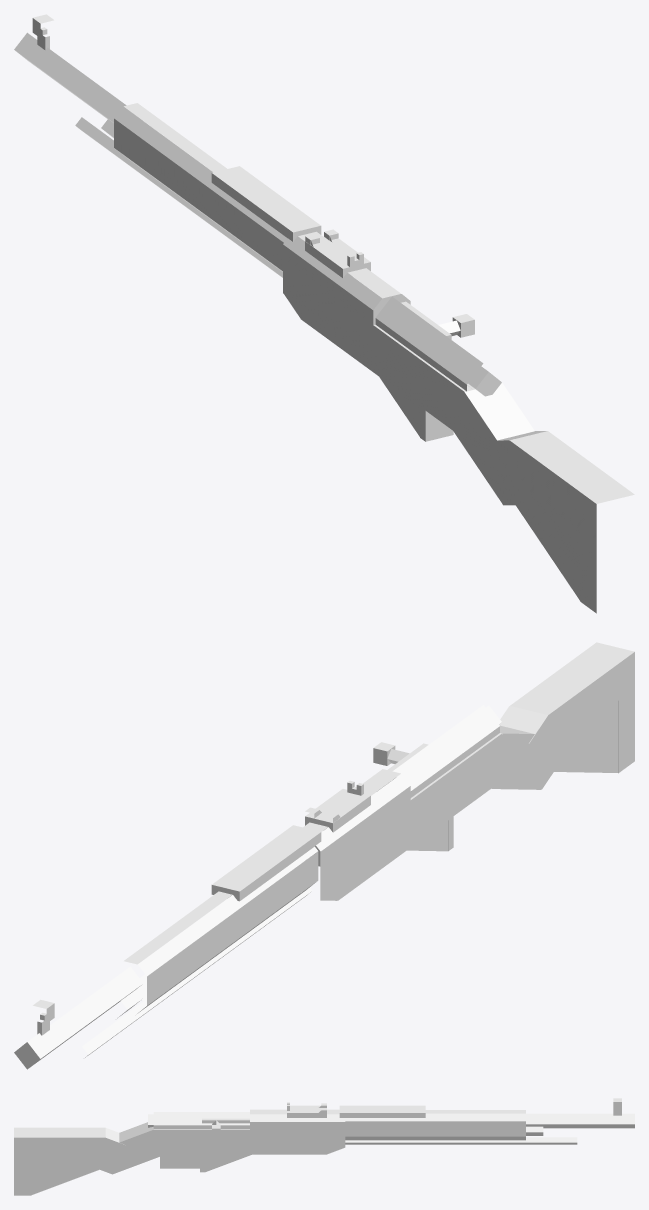
Rendered from aurorasarsenal_mosin.glb.
3 renders of one model, top to bottom at view 1: azimuth 30°, elevation 25°; view 2: azimuth 150°, elevation 25°; view 3: azimuth 270°, elevation 25°, orthographic. The views are drawn at different scales.
Parts seen in each view (by area): view 1: Gun; view 2: Gun; view 3: Gun.
Part boxes in pixels (x1,y1,x2,y2): Gun: [14, 14, 634, 613]; Gun: [14, 642, 634, 1069]; Gun: [14, 1098, 634, 1195].
Bounding box in the file's own units: 0.0883 × 0.2184 × 1.36.
1 material, 1 textured.
